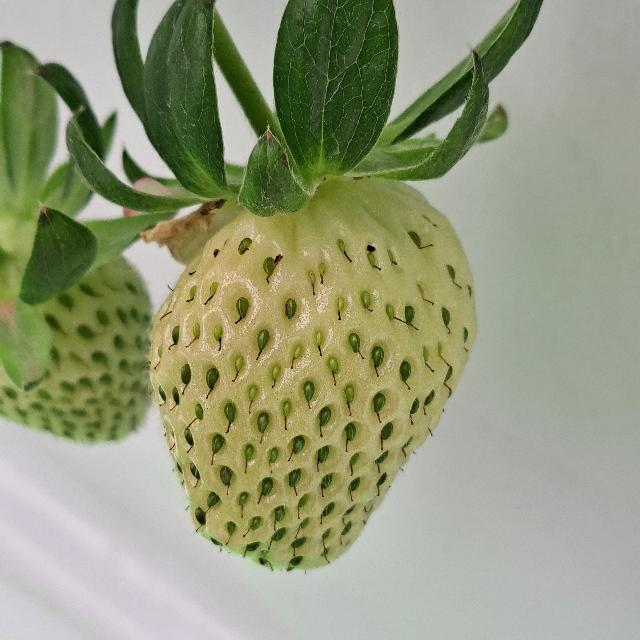Health_25: (147, 174, 477, 568), (1, 206, 151, 450)
